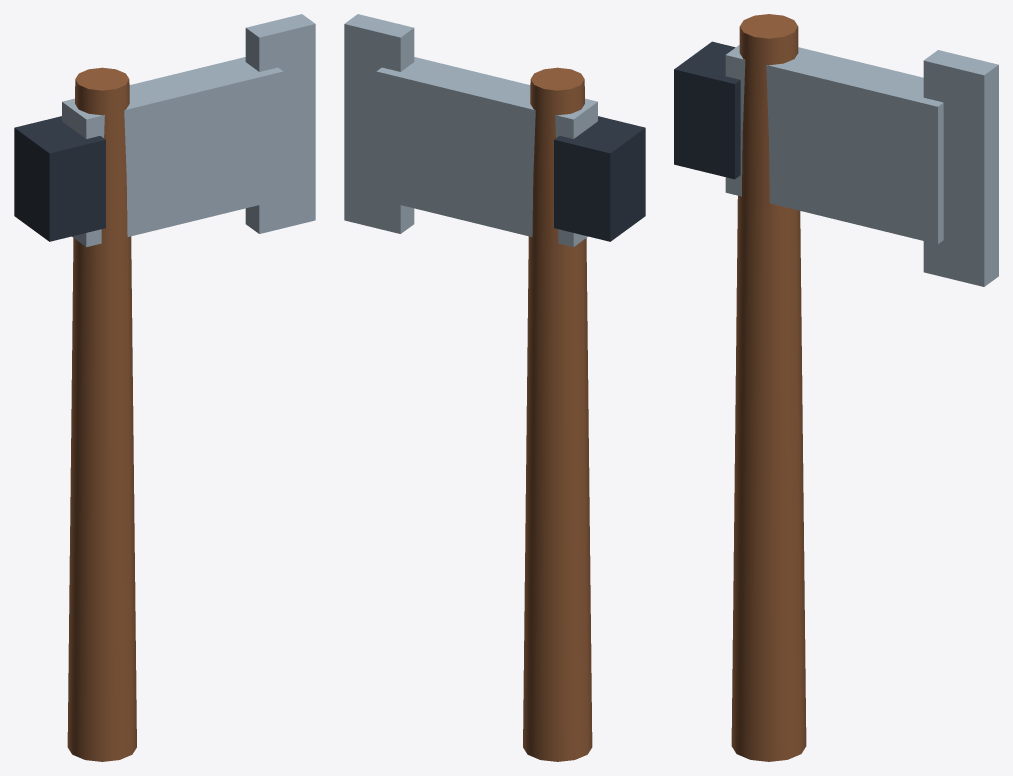
The model's file is axe.gltf.
3 renders of one model, left to right at view 1: azimuth 30°, elevation 25°; view 2: azimuth 150°, elevation 25°; view 3: azimuth 330°, elevation 25°, orthographic. The views are drawn at different scales.
Parts seen in each view (by area): view 1: Axe; view 2: Axe; view 3: Axe.
Boxes of the visible parts, x1,y1,x2,y2 form: Axe: (14,14,315,761); Axe: (344,14,645,761); Axe: (674,14,998,761).
Bounding box in the file's own units: 0.295 × 0.69 × 0.065.
